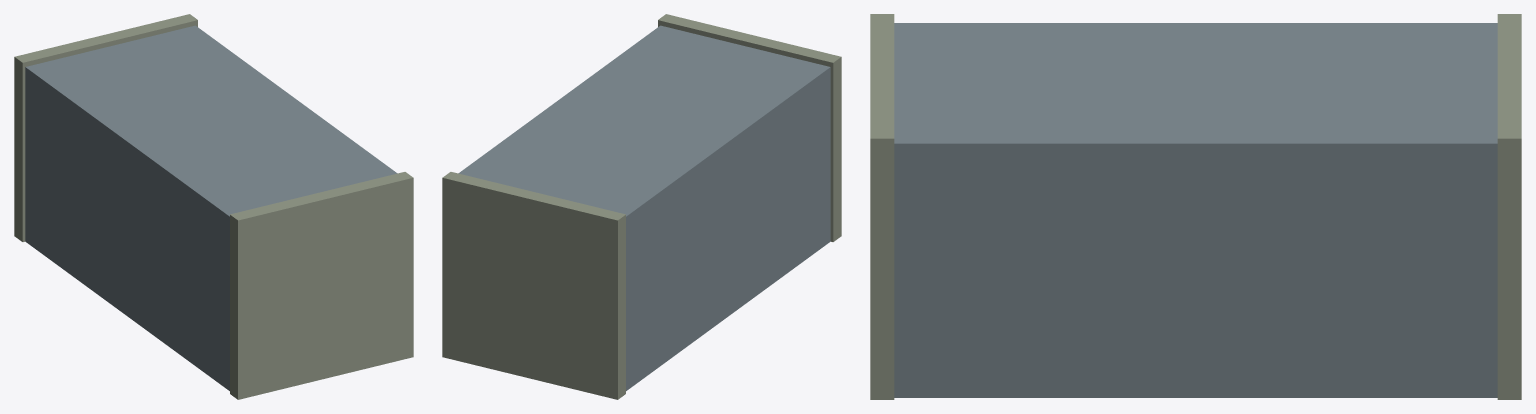
The model's file is container.glb.
3 renders of one model, left to right at view 1: azimuth 30°, elevation 25°; view 2: azimuth 150°, elevation 25°; view 3: azimuth 270°, elevation 25°, orthographic. The views are drawn at different scales.
Visible parts, largest first — view 1: ContainerBody, ContainerFrameB, ContainerFrameF; view 2: ContainerBody, ContainerFrameF, ContainerFrameB; view 3: ContainerBody, ContainerFrameB, ContainerFrameF.
Boxes of the visible parts, left/top/right/bottom form: ContainerBody: left=25, top=25, right=397, bottom=390; ContainerFrameB: left=230, top=172, right=413, bottom=399; ContainerFrameF: left=14, top=14, right=197, bottom=241; ContainerBody: left=458, top=25, right=830, bottom=390; ContainerFrameF: left=442, top=172, right=625, bottom=399; ContainerFrameB: left=658, top=14, right=841, bottom=241; ContainerBody: left=894, top=23, right=1497, bottom=397; ContainerFrameB: left=870, top=14, right=894, bottom=399; ContainerFrameF: left=1497, top=14, right=1521, bottom=399.
Size of the model in its own units: 2.68 by 2.62 by 5.92.
